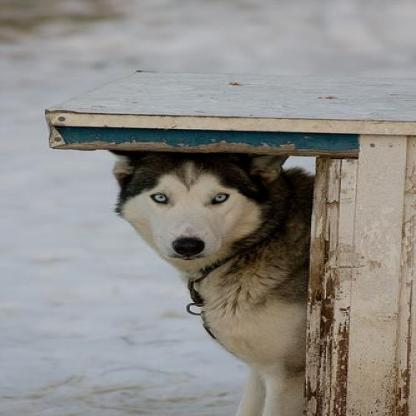Eskimo_dog: (107, 146, 316, 414)
